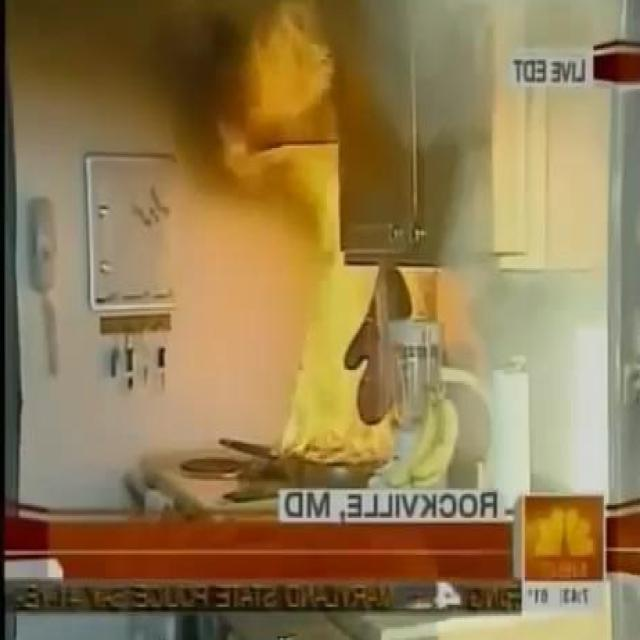fire: (357, 0, 640, 157)
smoke: (276, 211, 422, 468), (215, 0, 347, 218)
